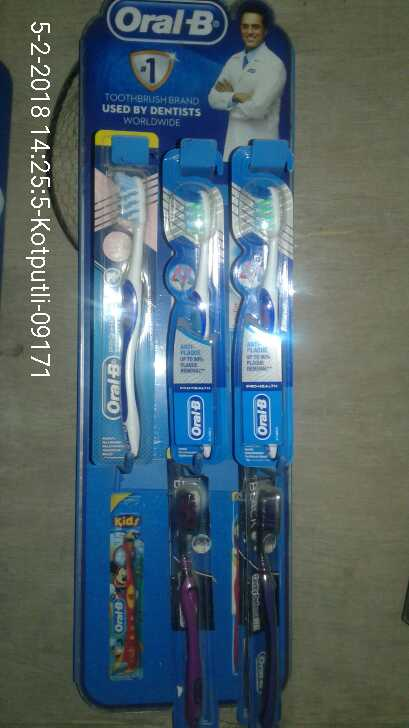oralb: (85, 131, 164, 475), (158, 146, 229, 466), (231, 137, 291, 468), (168, 470, 217, 728), (237, 478, 282, 728)
